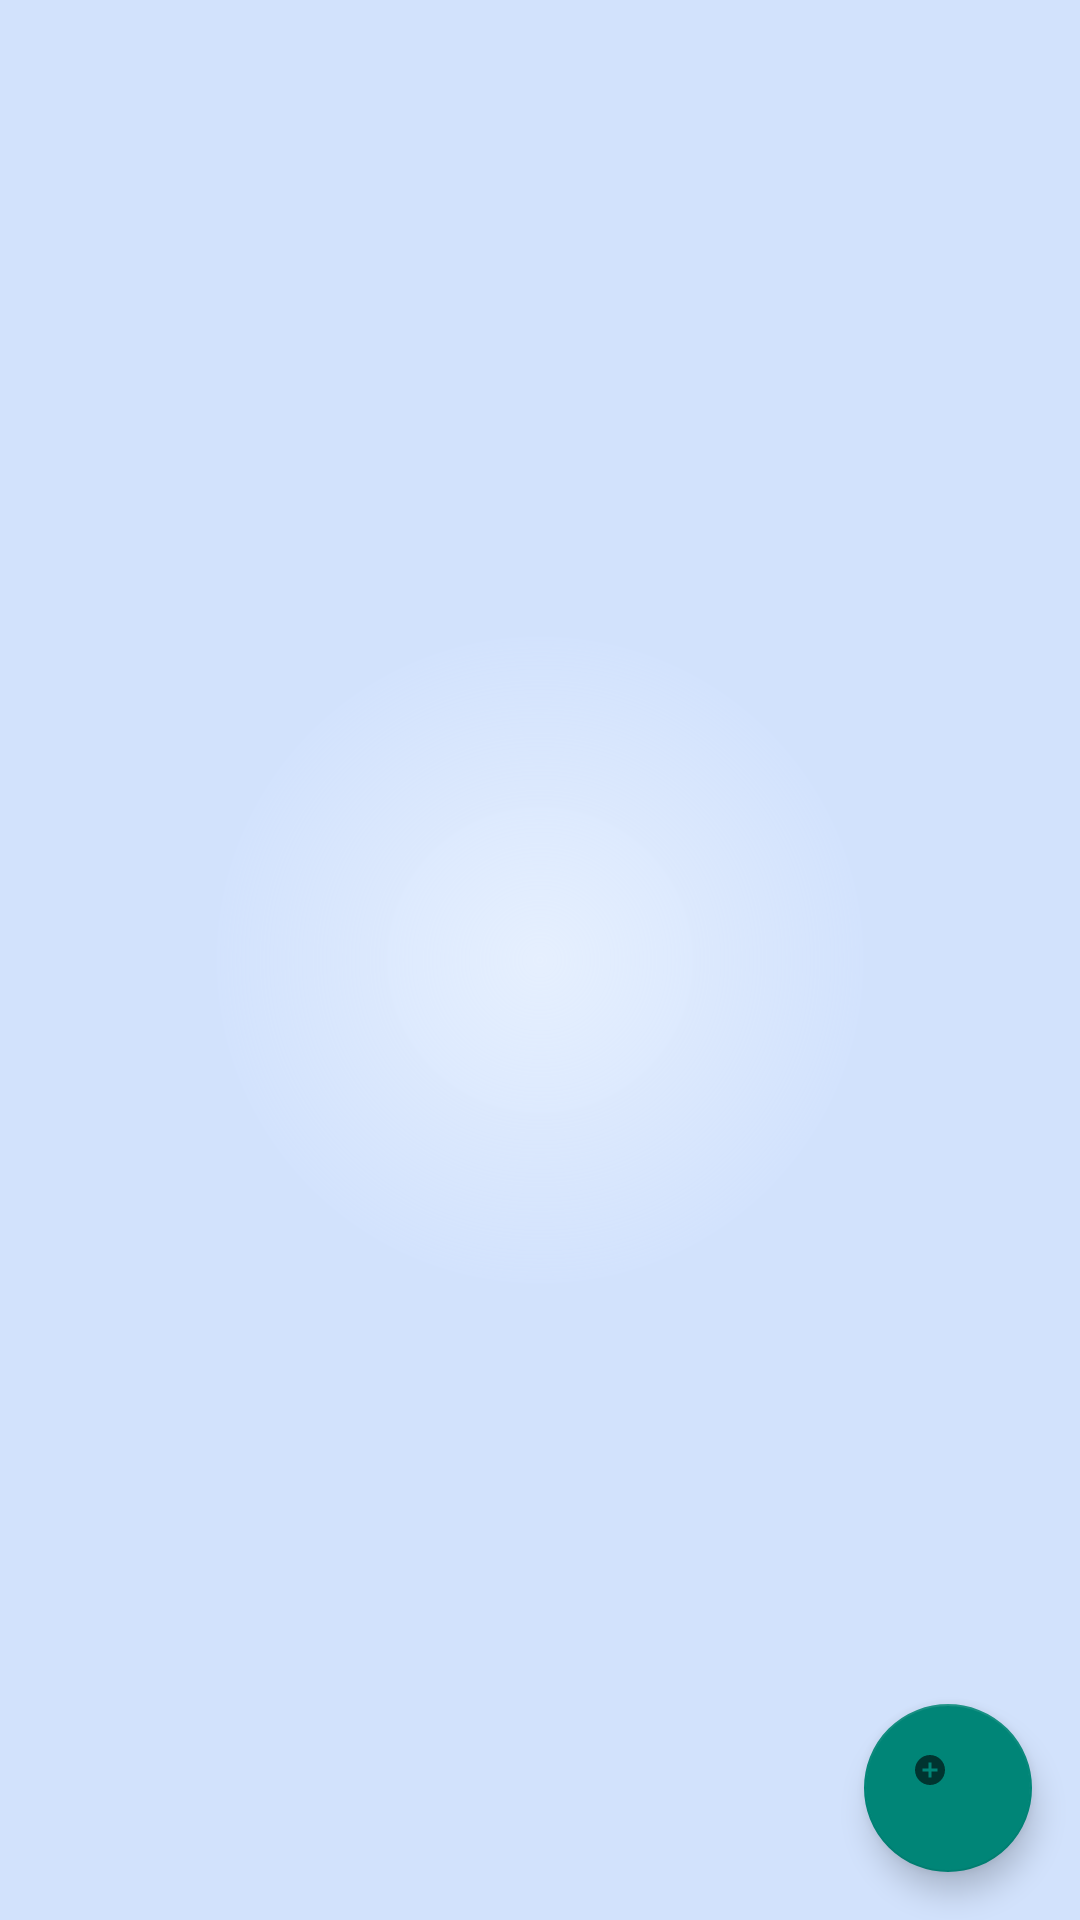

Icons on this 1080 x 1920 Android screen, each with its box as (x1, y1, x2, y2):
Add new word: (864, 1704, 1032, 1872)
